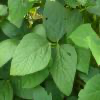Soyabean leaf: (9, 32, 51, 76), (49, 44, 78, 97), (42, 0, 69, 42), (68, 23, 99, 48)
